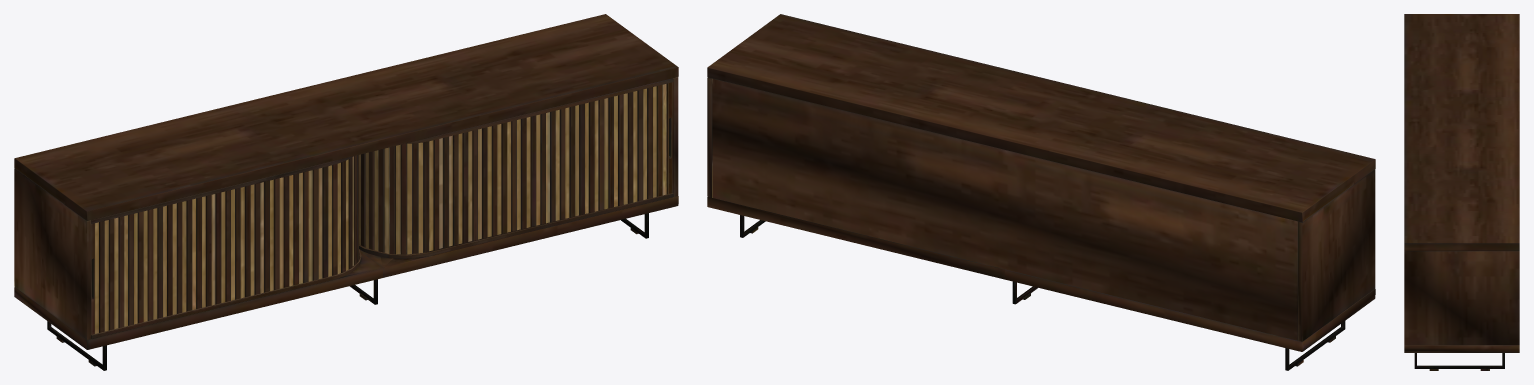
File: ph-cabinet.glb
3 renders of one model, left to right at view 1: azimuth 30°, elevation 25°; view 2: azimuth 150°, elevation 25°; view 3: azimuth 270°, elevation 25°, orthographic. The views are drawn at different scales.
Parts seen in each view (by area): view 1: modern_wooden_cabinet_body, modern_wooden_cabinet_door_l; view 2: modern_wooden_cabinet_body; view 3: modern_wooden_cabinet_body.
Boxes of the visible parts, left/top/right/bottom form: modern_wooden_cabinet_body: left=14, top=14, right=678, bottom=370; modern_wooden_cabinet_door_l: left=91, top=82, right=672, bottom=334; modern_wooden_cabinet_body: left=707, top=14, right=1375, bottom=370; modern_wooden_cabinet_body: left=1404, top=14, right=1519, bottom=370.
Size of the model in its own units: 2.44 by 0.6801 by 0.5201.
Materials: 1 (1 with a texture image).
